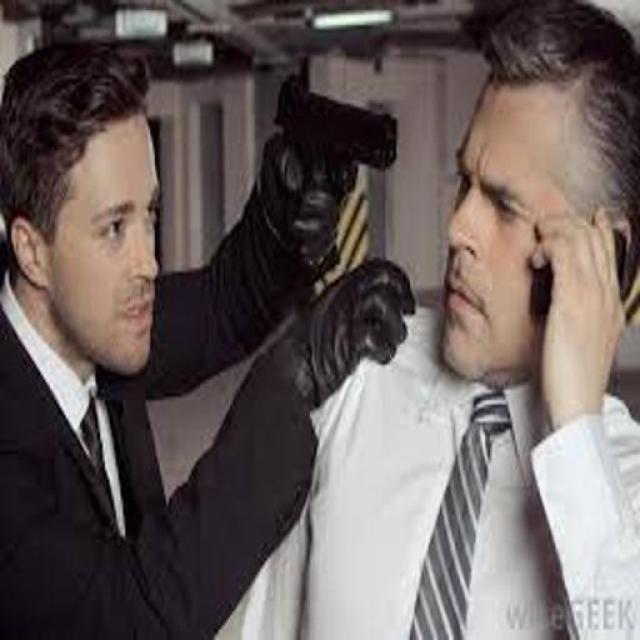pistol: (270, 60, 407, 264)
